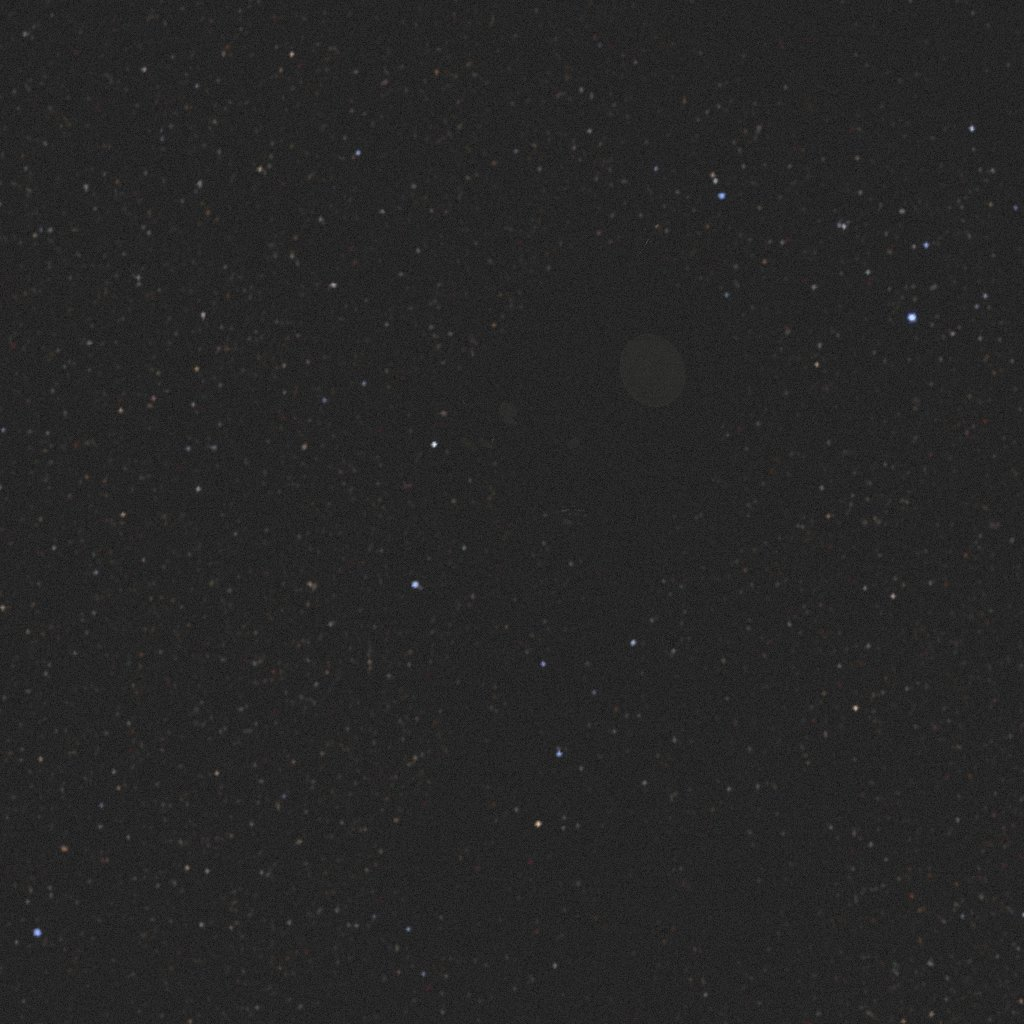smart_1: (445, 246, 739, 626)
